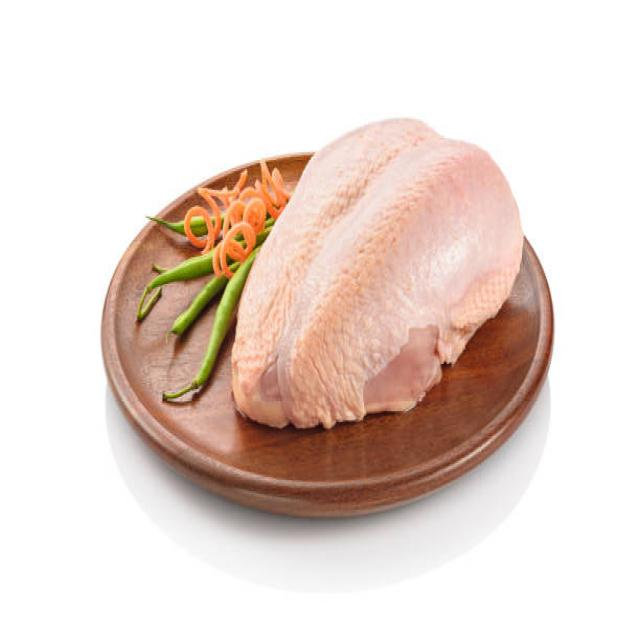Chicken: (277, 103, 504, 444)
